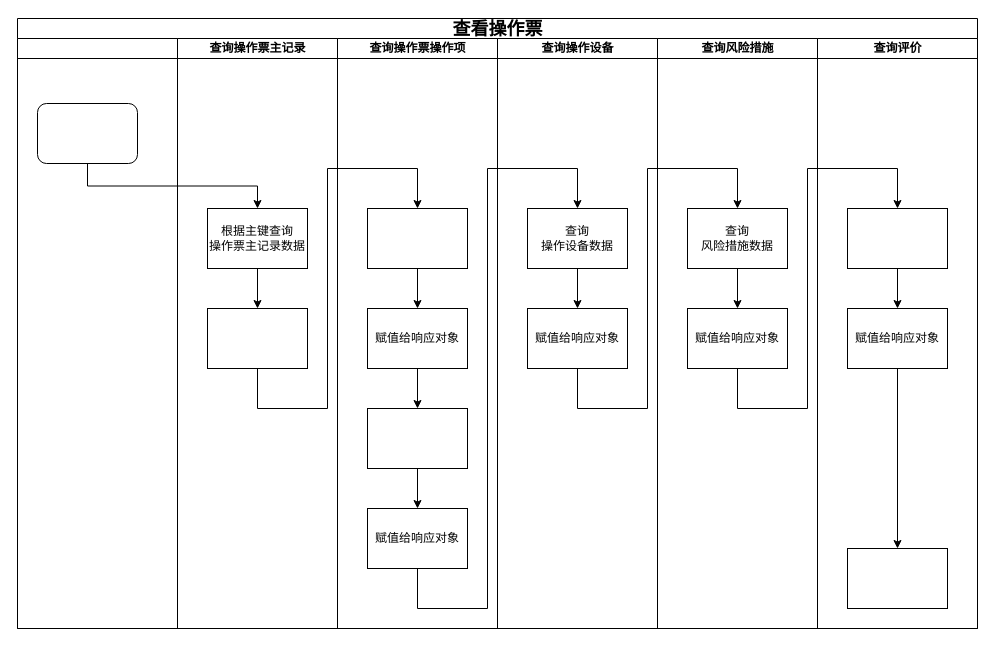
The diagram is 995 pixels wide and 646 high, and some of its shapes have lost their labels. The shapes that lost their labels are listed below. From the top down, each one's box as (x1, y1, x2, y2) in pixels, then its label:
(36, 102, 138, 164): 开始
(366, 208, 468, 268): 查询 操作票操作项数据
(846, 208, 948, 268): 查询 评价数据
(16, 38, 178, 628): 接收请求
(206, 308, 308, 368): 查询数据转换成响应对象
(366, 408, 468, 468): 查询 操作票图形化操作项数据
(846, 548, 948, 608): 成功返回
